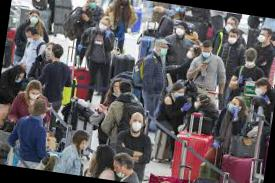mask_weared_incorrect: (112, 162, 129, 178), (111, 83, 122, 98)
with_mask: (130, 115, 144, 133), (155, 43, 171, 56), (226, 100, 240, 114), (28, 89, 43, 102), (79, 137, 92, 151), (173, 88, 187, 101), (200, 46, 213, 59), (256, 31, 268, 44), (44, 45, 54, 60), (223, 21, 235, 33), (14, 72, 25, 85), (97, 20, 110, 31), (227, 33, 238, 46), (193, 96, 204, 109), (244, 57, 256, 68), (254, 84, 266, 95), (25, 32, 34, 44), (176, 25, 186, 35), (30, 13, 39, 24), (86, 1, 97, 8)
